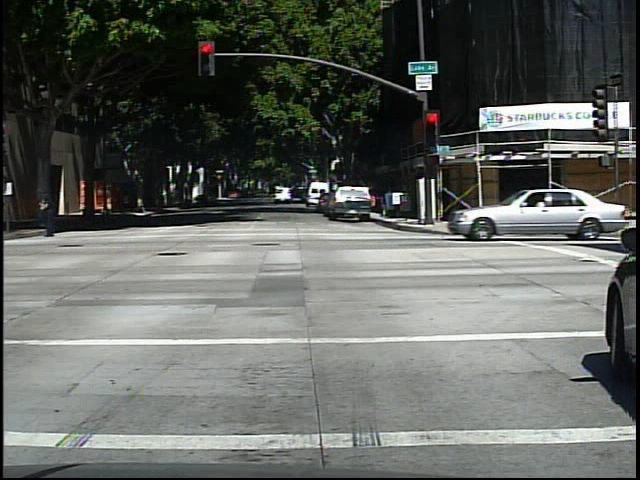person: (35, 188, 64, 241)
